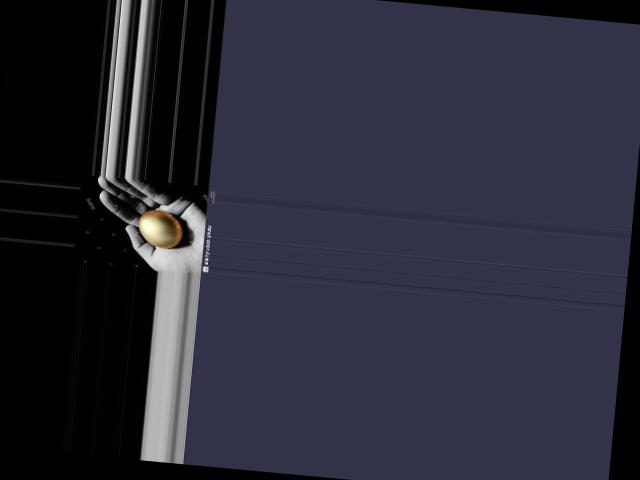egg: (136, 208, 183, 248)
